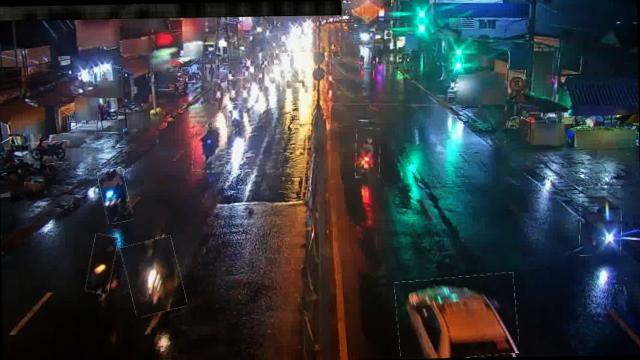Bike: (124, 238, 184, 316), (579, 185, 622, 256), (86, 234, 116, 294), (100, 167, 130, 224), (192, 126, 227, 172), (355, 128, 380, 176), (28, 140, 69, 163), (228, 105, 246, 130), (228, 76, 242, 106), (212, 79, 227, 102), (238, 78, 251, 103)
Car: (395, 274, 518, 358)
